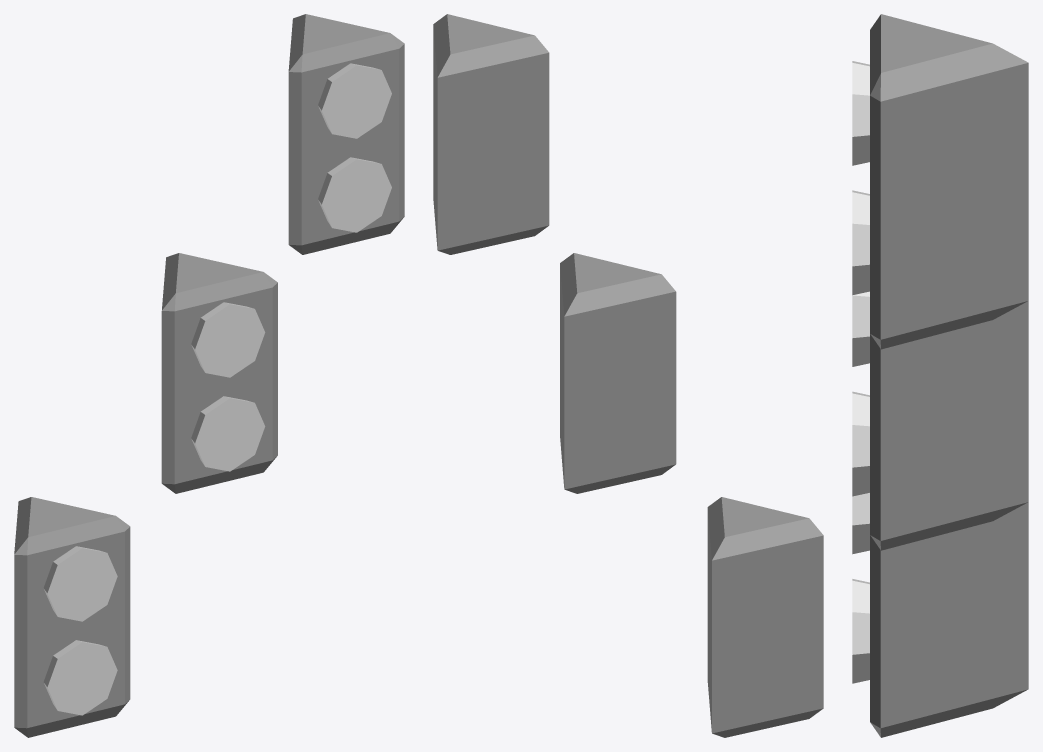
File: Lamp-2.fbx
3 renders of one model, left to right at view 1: azimuth 30°, elevation 25°; view 2: azimuth 150°, elevation 25°; view 3: azimuth 270°, elevation 25°, orthographic. The views are drawn at different scales.
Visible parts, largest first — view 1: Lamp-2-1, Lamp-2-3, Lamp-2-2; view 2: Lamp-2-2, Lamp-2-3, Lamp-2-1; view 3: Lamp-2-3, Lamp-2-1, Lamp-2-2.
Part boxes in pixels (x1,y1,x2,y2): Lamp-2-1: (161, 253, 277, 493); Lamp-2-3: (288, 14, 404, 254); Lamp-2-2: (14, 497, 130, 737); Lamp-2-2: (707, 497, 823, 737); Lamp-2-3: (433, 14, 549, 254); Lamp-2-1: (560, 253, 676, 493); Lamp-2-3: (852, 14, 1028, 349); Lamp-2-1: (852, 291, 1028, 550); Lamp-2-2: (852, 493, 1028, 737).
Bounding box in the file's own units: 1.6 × 2.42 × 0.4552.
